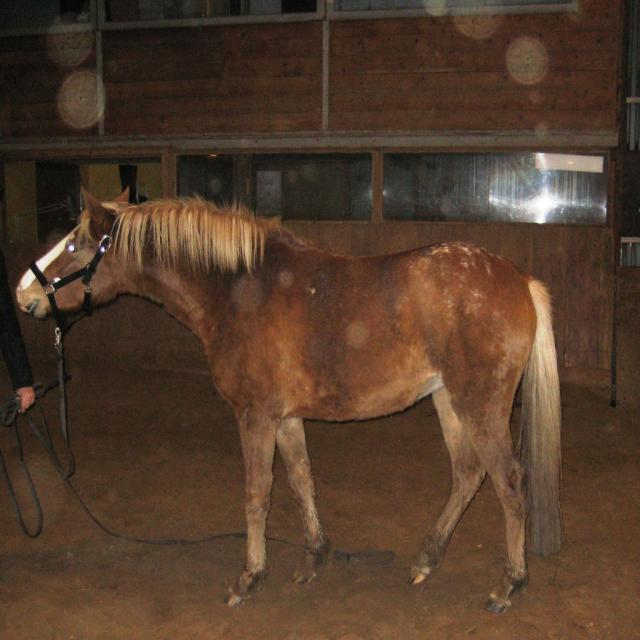Horse: (15, 186, 565, 616)
